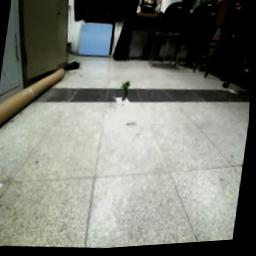herb: (121, 82, 132, 105)
